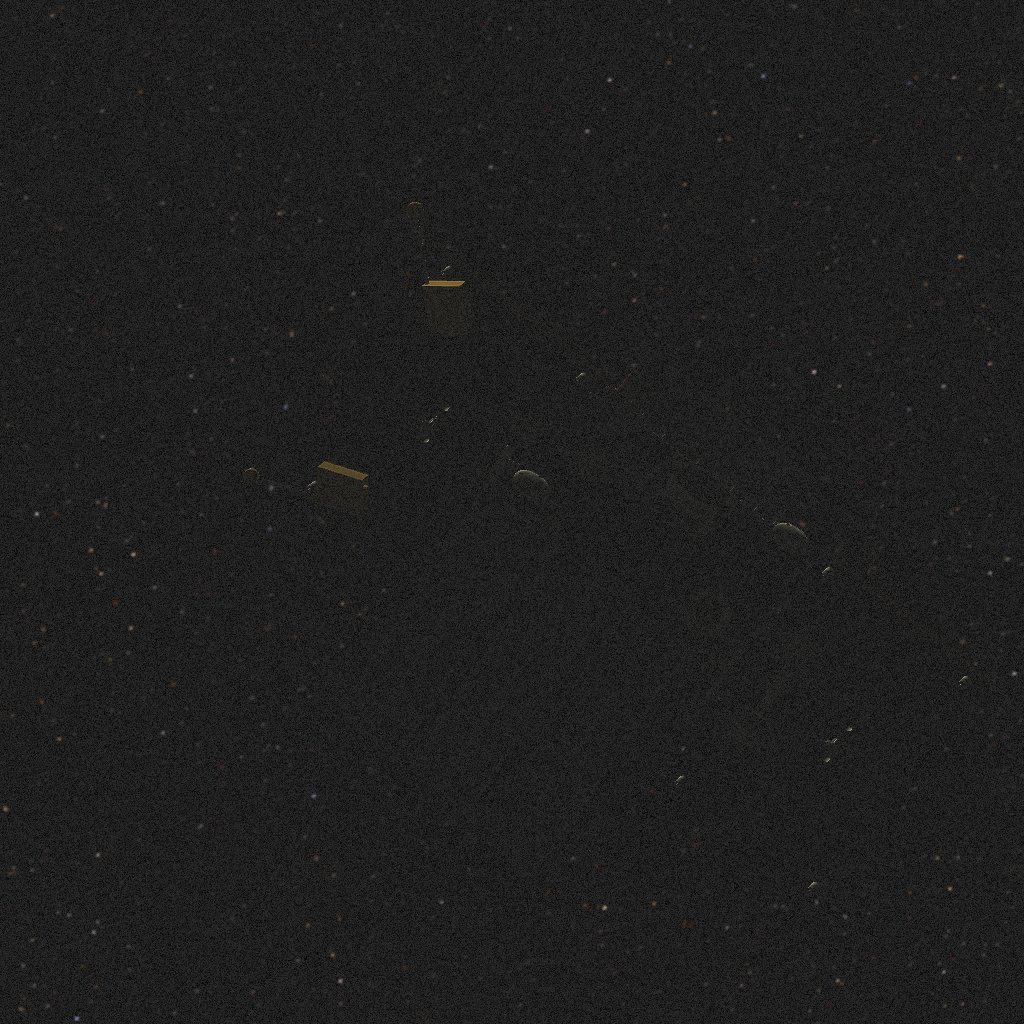proba_2: (243, 202, 990, 905)
